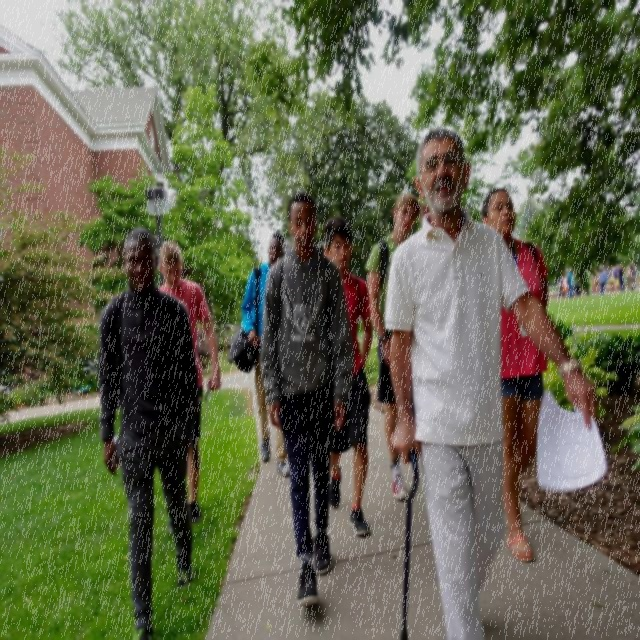pessoa: (380, 122, 600, 640), (94, 224, 202, 639), (258, 188, 358, 612), (478, 185, 552, 564), (156, 235, 226, 540), (364, 193, 422, 502), (322, 214, 374, 538), (240, 232, 290, 479), (554, 259, 640, 300)
